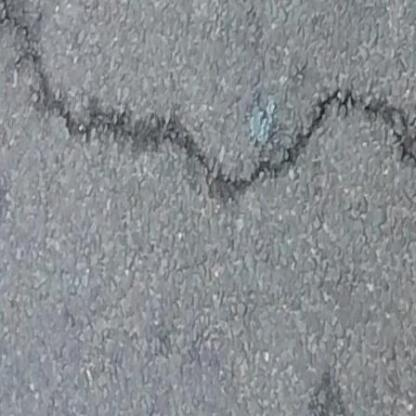Cracks: (53, 77, 305, 239), (0, 0, 179, 171), (219, 58, 416, 211)
